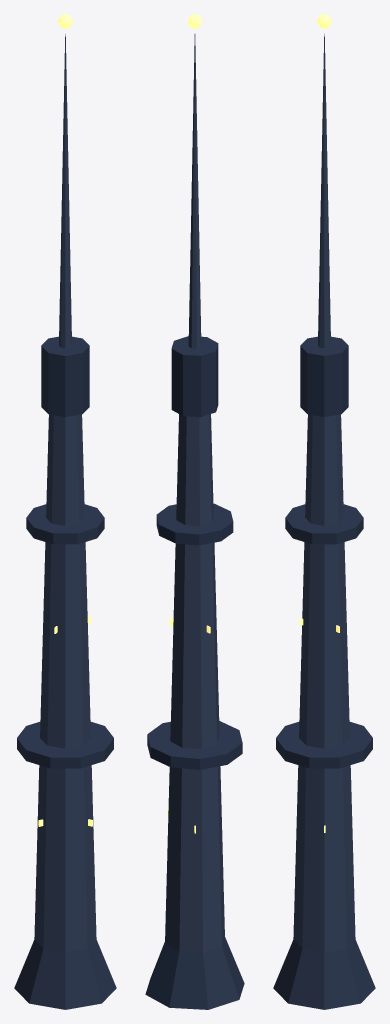
The model's file is tower-c.glb.
3 views of the same model, side by side, from view 1: azimuth 90°, elevation 25°; view 2: azimuth 150°, elevation 25°; view 3: azimuth 270°, elevation 25° (orthographic).
Visible parts, largest first — view 1: Cone, Cone.001, Cylinder.002, Cylinder, Cone.002, Cylinder.001; view 2: Cone, Cone.001, Cylinder.002, Cylinder, Cone.002, Cylinder.001; view 3: Cone, Cone.001, Cylinder.002, Cylinder, Cone.002, Cylinder.001.
Part boxes in pixels (left/top/right/bottom): Cone: left=34, top=414, right=96, bottom=952; Cone.001: left=14, top=939, right=116, bottom=1009; Cylinder.002: left=41, top=336, right=89, bottom=416; Cylinder: left=17, top=722, right=113, bottom=768; Cone.002: left=59, top=34, right=71, bottom=348; Cylinder.001: left=26, top=504, right=104, bottom=544; Cone: left=165, top=414, right=224, bottom=952; Cone.001: left=145, top=937, right=244, bottom=1009; Cylinder.002: left=171, top=336, right=218, bottom=416; Cylinder: left=147, top=721, right=242, bottom=769; Cone.002: left=188, top=34, right=201, bottom=348; Cylinder.001: left=156, top=503, right=233, bottom=545; Cone: left=293, top=414, right=355, bottom=952; Cone.001: left=273, top=939, right=375, bottom=1009; Cylinder.002: left=300, top=336, right=348, bottom=416; Cylinder: left=276, top=722, right=372, bottom=768; Cone.002: left=318, top=34, right=330, bottom=348; Cylinder.001: left=285, top=504, right=363, bottom=544.
Bounding box in the file's own units: 7.6 × 79.55 × 7.6.
